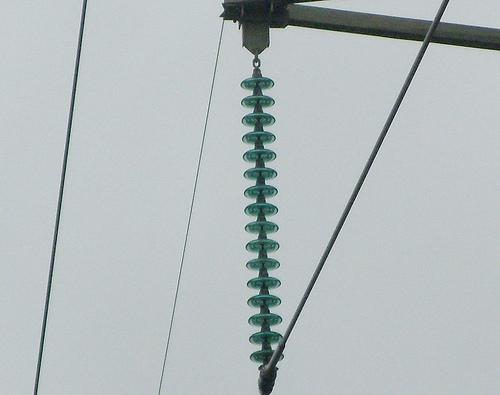isolator: (239, 74, 285, 364)
